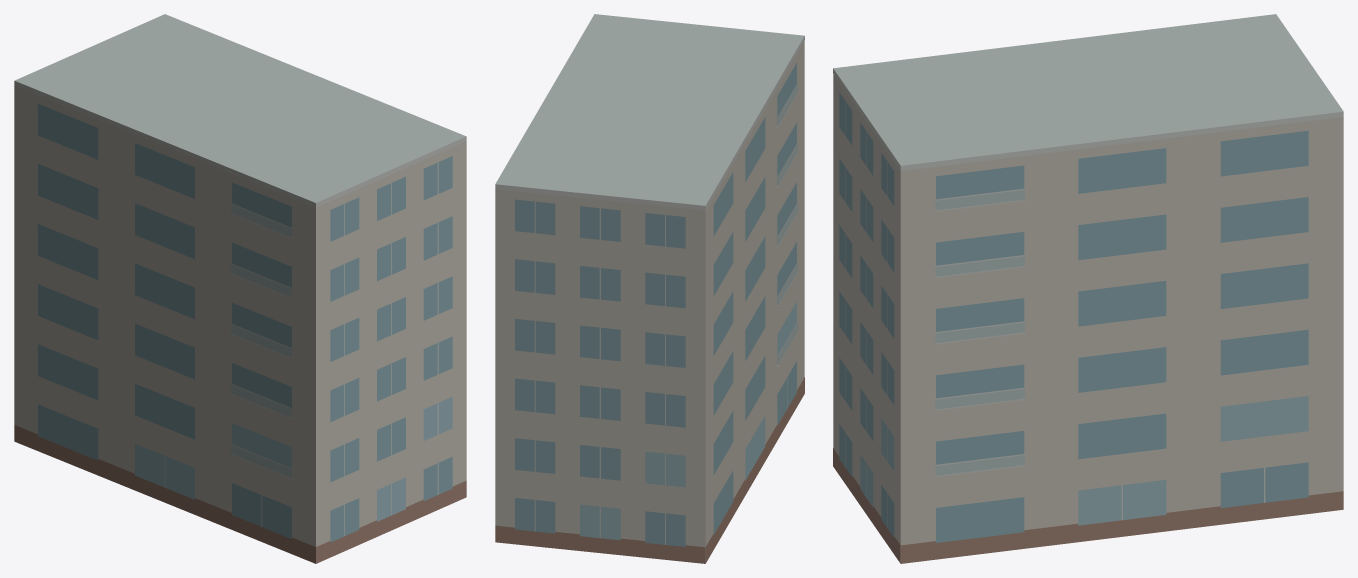
Rendered from survey-upis-32862373.glb.
3 renders of one model, left to right at view 1: azimuth 30°, elevation 25°; view 2: azimuth 150°, elevation 25°; view 3: azimuth 270°, elevation 25°, orthographic. The views are drawn at different scales.
Visible parts, largest first — view 1: survey-upis-32862373.tmp; view 2: survey-upis-32862373.tmp; view 3: survey-upis-32862373.tmp.
Part boxes in pixels (box(x1,y1,x2,y2)): survey-upis-32862373.tmp: box(14, 14, 466, 563); survey-upis-32862373.tmp: box(495, 14, 804, 563); survey-upis-32862373.tmp: box(833, 14, 1343, 563).
Bounding box in the file's own units: 14.98 × 18.3 × 21.29.
